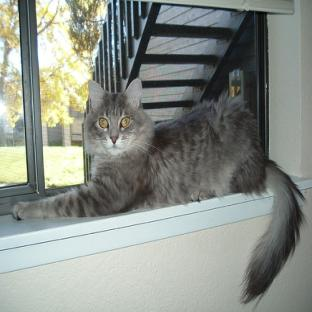Animal: (12, 79, 305, 302)
